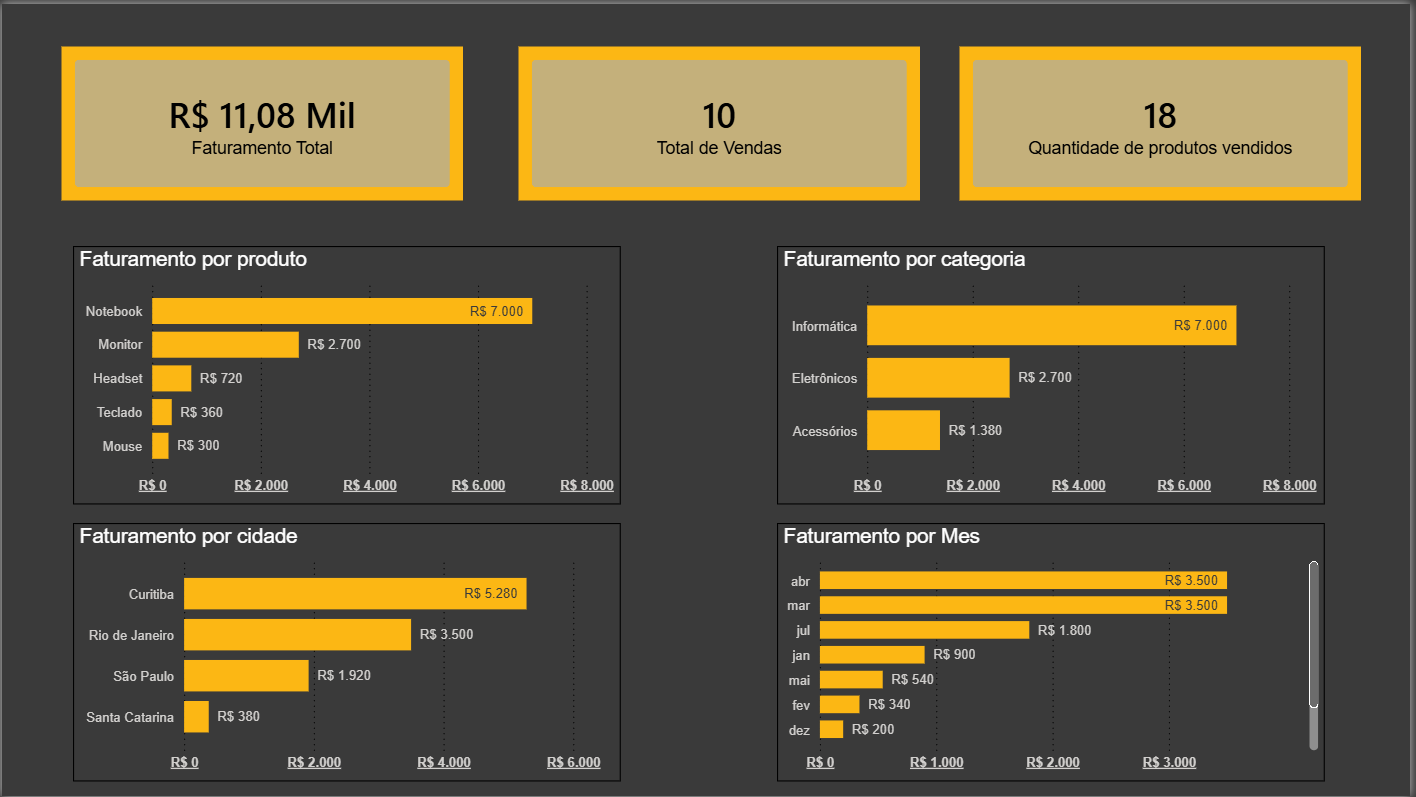

The dashboard page shown, as its layout file describes it:
{"tool":"powerbi","page":{"name":"Página 1","canvas":[1280,720],"ordinal":0},"visuals":[{"type":"barChart","fields":{"Category":["vendas(tb_vendas).produto"],"Y":["Sum(vendas(tb_vendas).Faturamento)"]},"box":[64.7,220.1,498.1,234.6],"z":0},{"type":"cardVisual","fields":{"Data":["Sum(vendas(tb_vendas).quantidade)"]},"box":[865.9,33.8,375.5,150.6],"z":3000},{"type":"cardVisual","fields":{"Data":["Max(vendas(tb_vendas).Total de Vendas)"]},"box":[464.3,33.8,375.5,150.6],"z":3001},{"type":"cardVisual","fields":{"Data":["Sum(vendas(tb_vendas).Faturamento)"]},"box":[49.2,33.8,375.5,150.6],"z":3002},{"type":"barChart","fields":{"Y":["Sum(vendas(tb_vendas).Faturamento)"],"Category":["vendas(tb_vendas).cidade"]},"box":[64.7,472,498.1,234.6],"z":3003},{"type":"barChart","fields":{"Y":["Sum(vendas(tb_vendas).Faturamento)"],"Category":["vendas(tb_vendas).categoria"]},"box":[704.7,220.1,498.1,234.6],"z":3004},{"type":"barChart","fields":{"Category":["vendas(tb_vendas).Mes"],"Y":["Sum(vendas(tb_vendas).Faturamento)"]},"box":[704.7,472,498.1,234.6],"z":3005}]}

Visuals, with their boxes in screenshot pixels (x1, y1, x2, y2), scaled from the page's 1280x720 canvas onto the 1416x797 screenshot:
barChart - vendas(tb_vendas).produto x Sum(vendas(tb_vendas).Faturamento): 72/244/623/503
cardVisual - Sum(vendas(tb_vendas).quantidade): 958/37/1373/204
cardVisual - Max(vendas(tb_vendas).Total de Vendas): 514/37/929/204
cardVisual - Sum(vendas(tb_vendas).Faturamento): 54/37/470/204
barChart - Sum(vendas(tb_vendas).Faturamento) x vendas(tb_vendas).cidade: 72/522/623/782
barChart - Sum(vendas(tb_vendas).Faturamento) x vendas(tb_vendas).categoria: 780/244/1331/503
barChart - vendas(tb_vendas).Mes x Sum(vendas(tb_vendas).Faturamento): 780/522/1331/782
